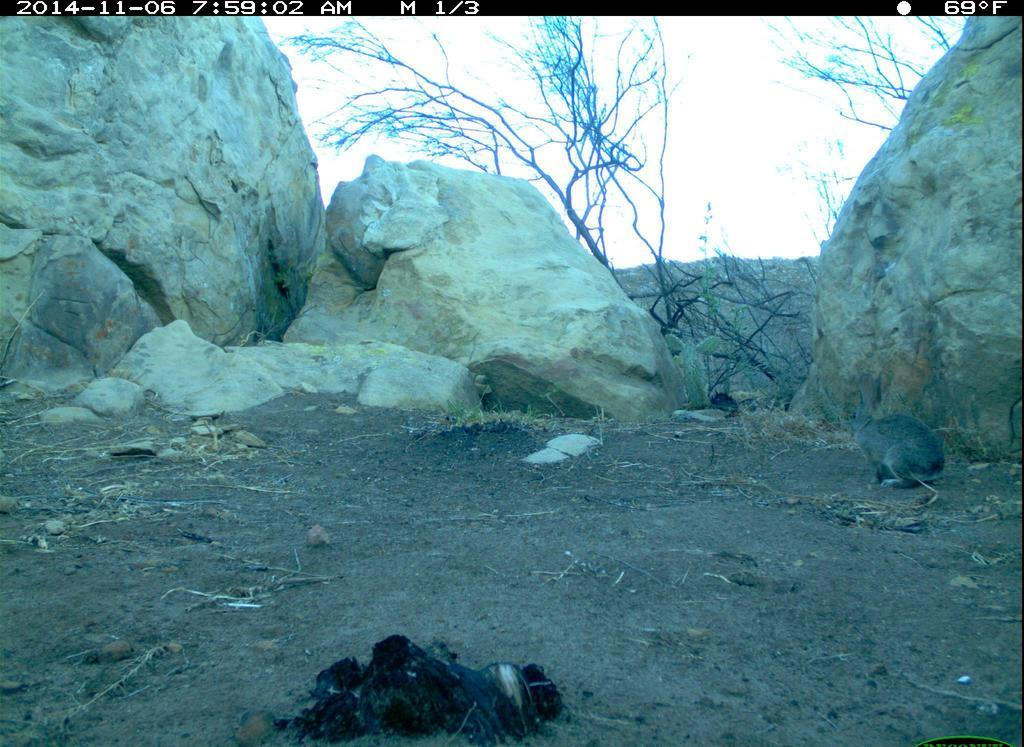rabbit: (840, 401, 968, 507)
